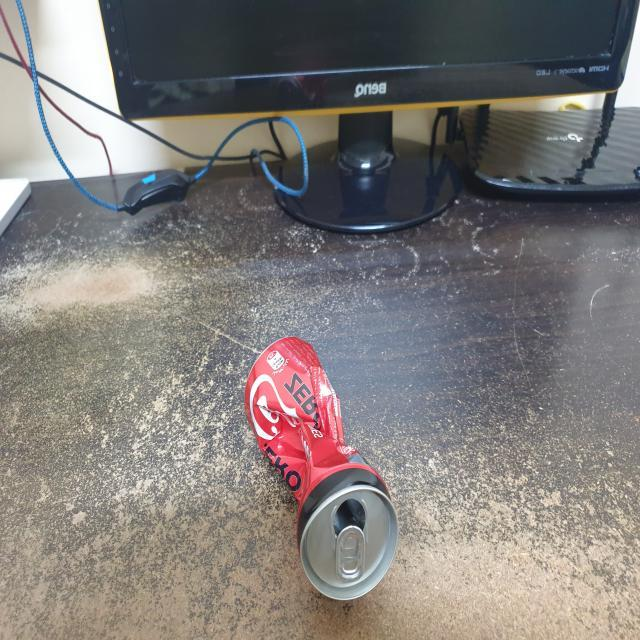can: (230, 322, 410, 612)
